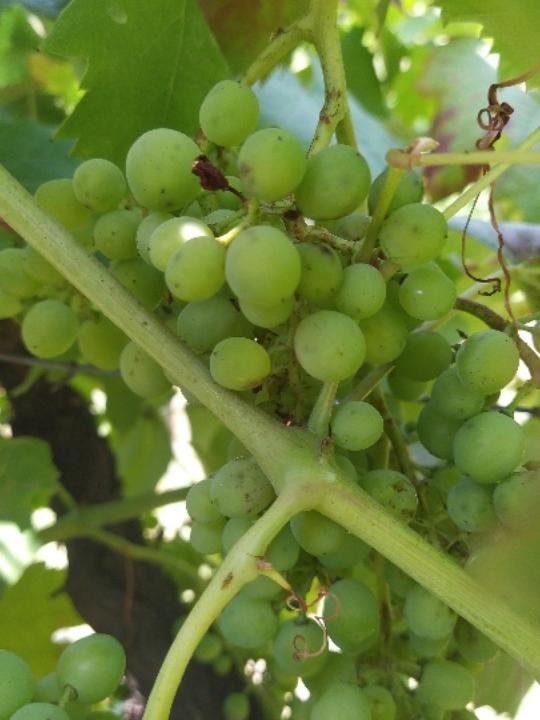grape: (0, 72, 540, 720)
